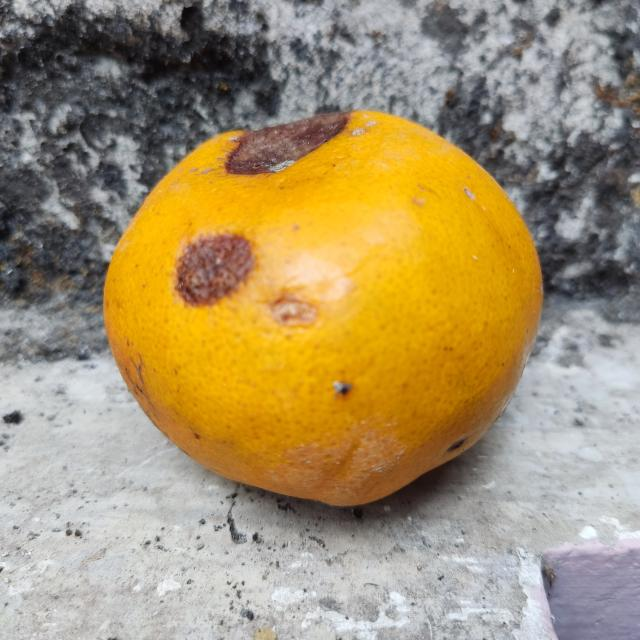orange: (105, 110, 546, 506)
